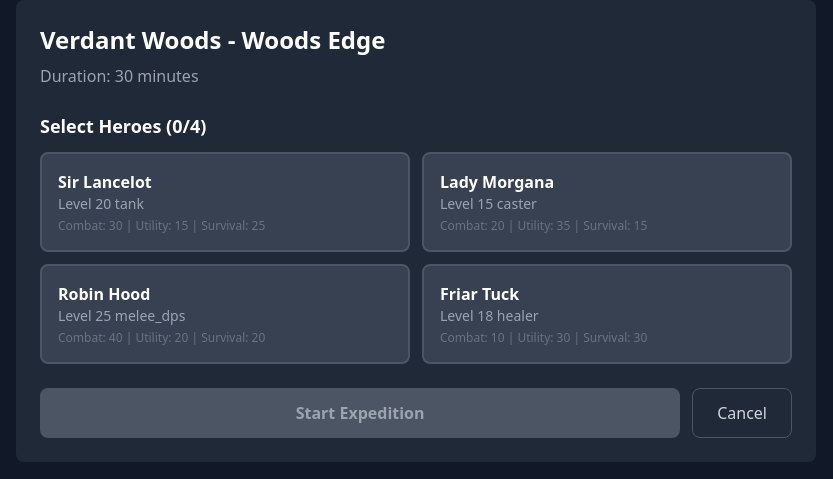
Test: Setup (Expedition) › Hero Selection › should allow selecting up to 4 heroes
Click the button with class "hero-card" that starts with "Sir Lancelot".
click(105, 182)  # box [40,152,410,252]
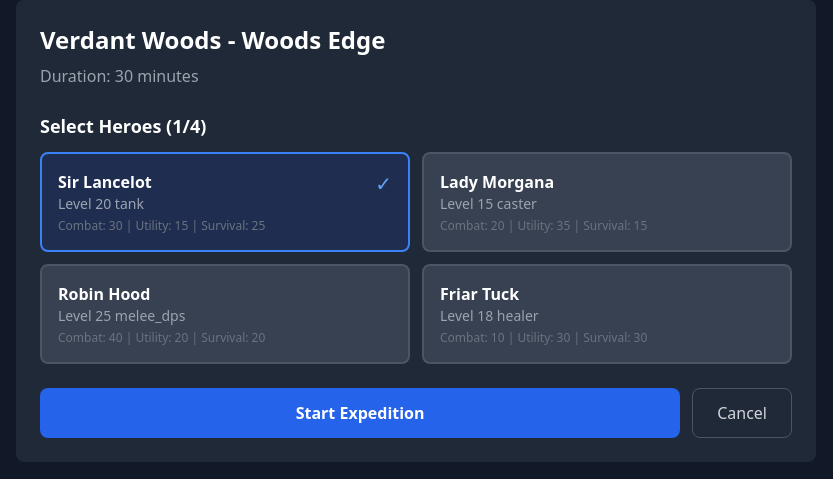
Click the button with class "hero-card" that starts with "Lady Morgana".
click(497, 182)  # box [422,152,792,252]
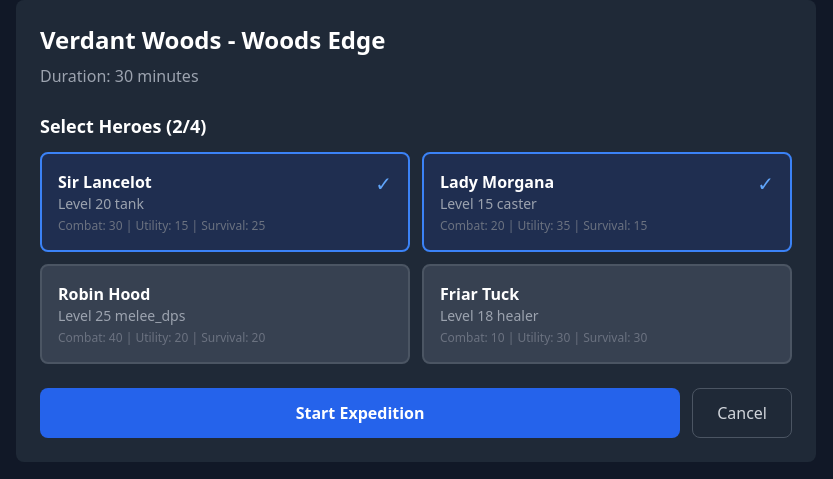
Click the button with class "hero-card" that starts with "Robin Hood".
click(104, 294)  # box [40,264,410,364]
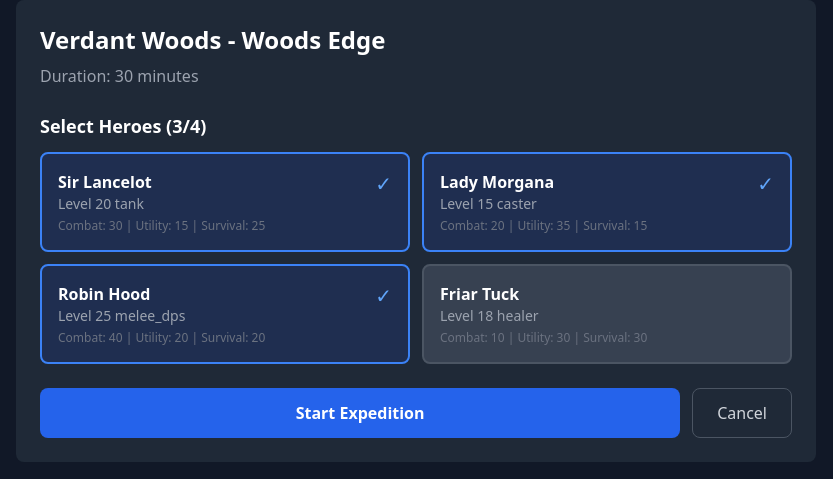
Click the button with class "hero-card" that starts with "Friar Tuck".
click(480, 294)  # box [422,264,792,364]
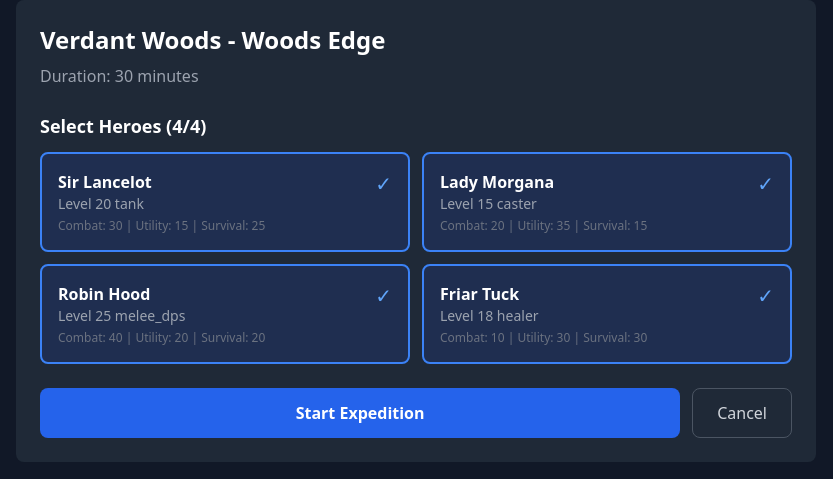
Result: the text "4/4" is shown at [40,114,206,138]
